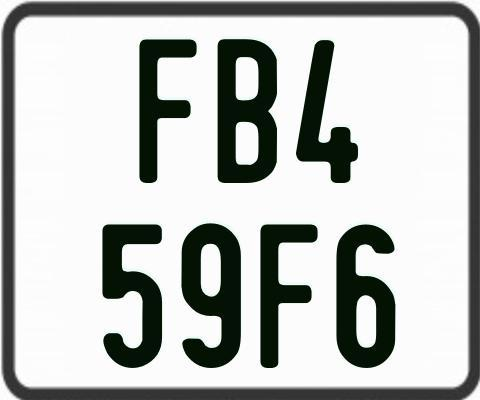4: (294, 40, 362, 184)
5: (100, 224, 164, 369)
6: (336, 225, 401, 369)
9: (179, 220, 239, 365)
B: (218, 37, 282, 187)
F: (259, 223, 319, 370), (139, 39, 199, 183)
